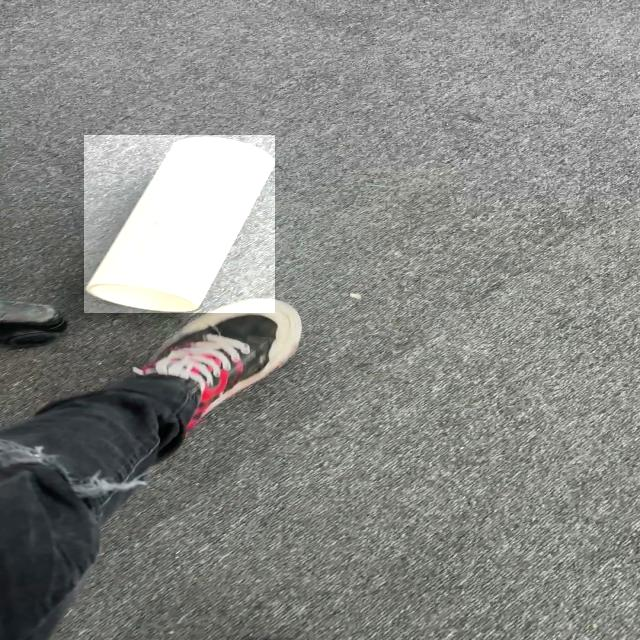Coral: (84, 135, 275, 313)
